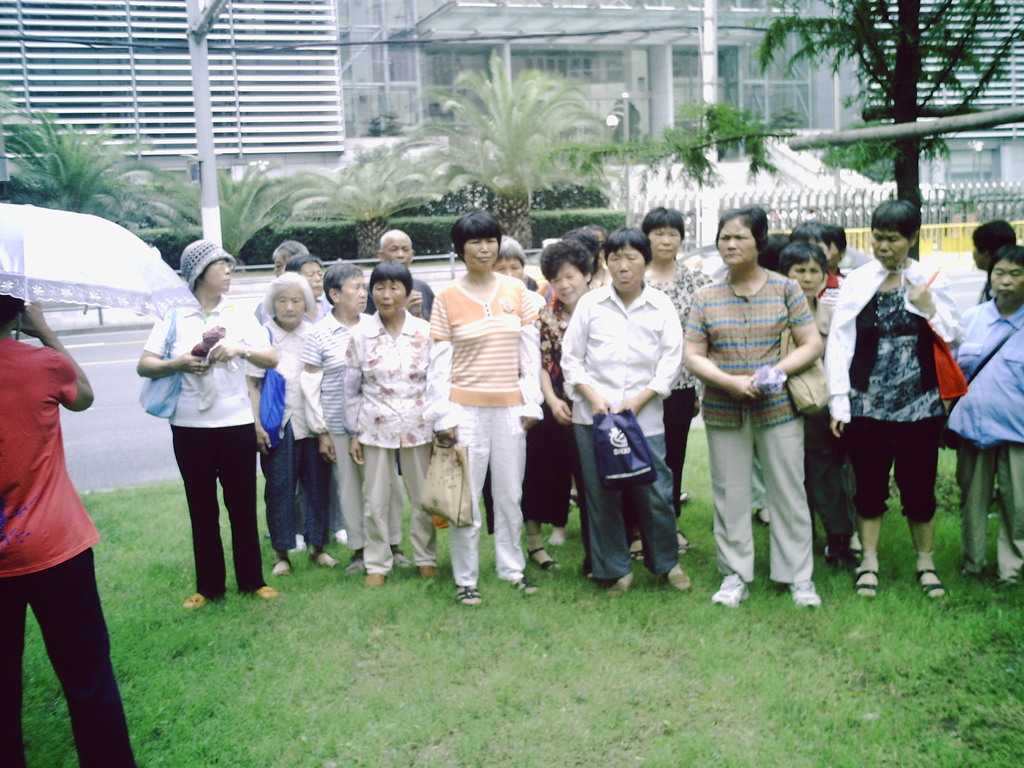Footwear: (710, 575, 753, 612), (915, 566, 950, 608), (525, 547, 558, 577), (789, 578, 820, 609), (853, 568, 879, 604), (456, 584, 485, 608), (510, 579, 540, 602), (629, 536, 645, 566), (273, 558, 291, 579), (257, 588, 279, 603), (184, 598, 205, 611), (680, 529, 689, 557)
